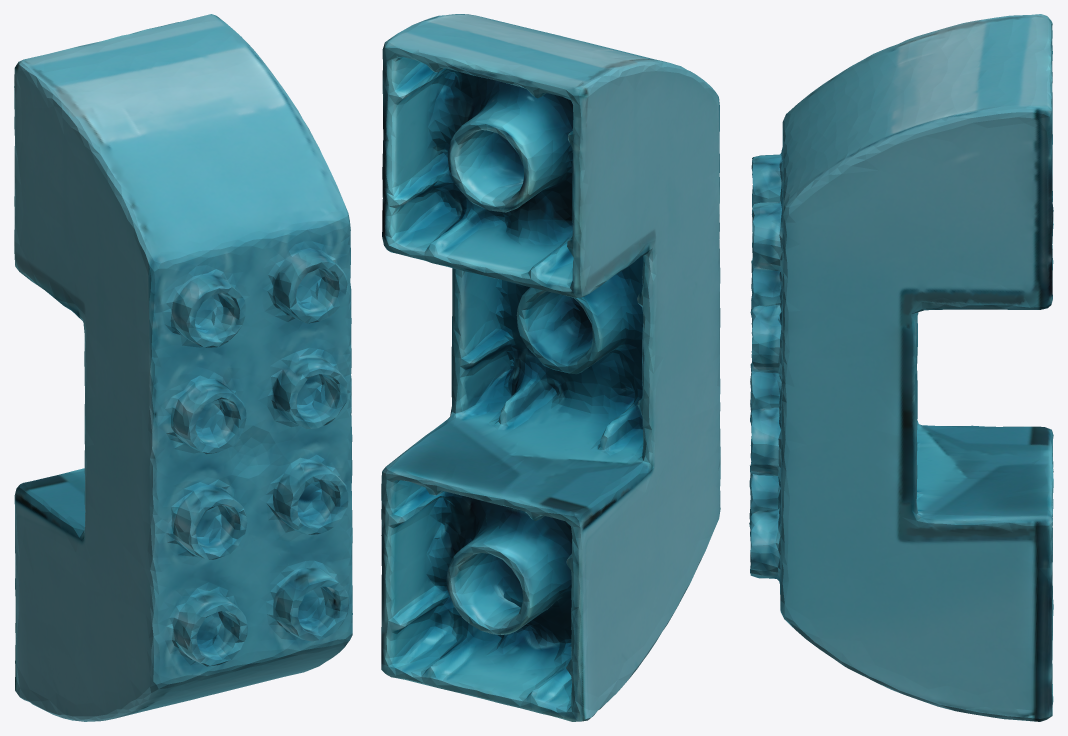
File: e_lego_duplo.glb
3 views of the same model, side by side, from view 1: azimuth 30°, elevation 25°; view 2: azimuth 150°, elevation 25°; view 3: azimuth 270°, elevation 25° (orthographic). The views are drawn at different scales.
Visible parts, largest first — view 1: textured.obj; view 2: textured.obj; view 3: textured.obj.
Part boxes in pixels (x1=…): textured.obj: x1=14, y1=14, x2=352, y2=721; textured.obj: x1=381, y1=14, x2=720, y2=721; textured.obj: x1=749, y1=14, x2=1053, y2=721.
Size of the model in its own units: 0.0324 by 0.096 by 0.043.
1 material, 1 textured.
